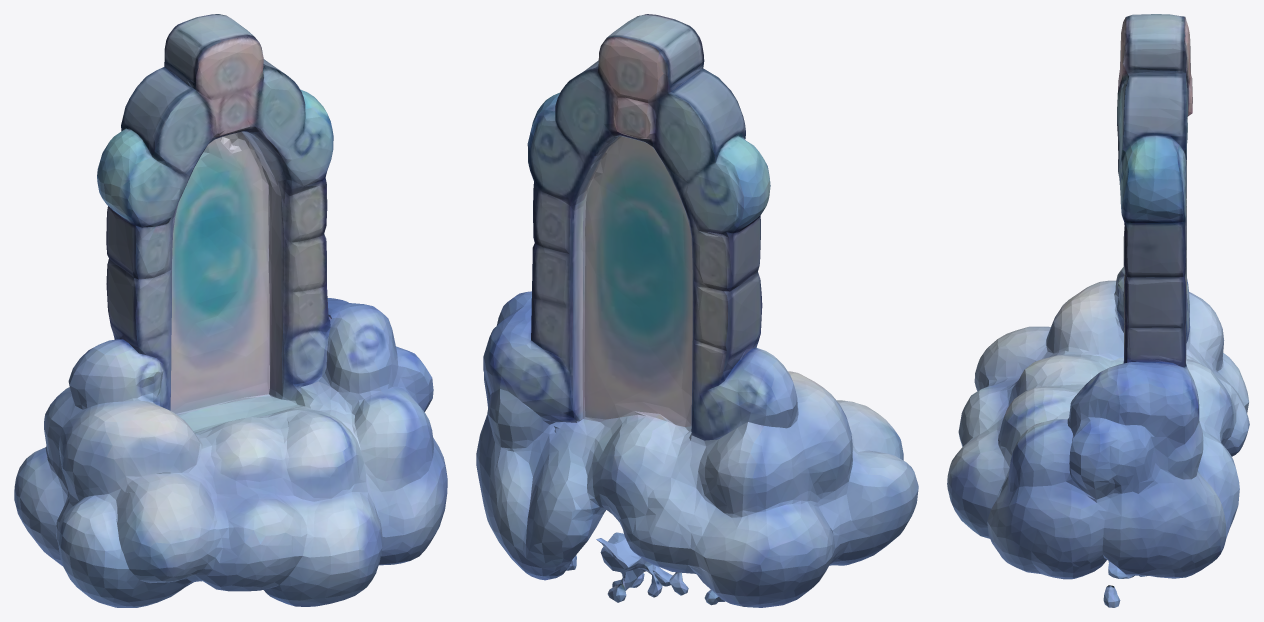
Rendered from portal_clouds.glb.
3 views of the same model, side by side, from view 1: azimuth 30°, elevation 25°; view 2: azimuth 150°, elevation 25°; view 3: azimuth 270°, elevation 25° (orthographic). The views are drawn at different scales.
Visible parts, largest first — view 1: world; view 2: world; view 3: world.
Part boxes in pixels (left/top/right/bottom): world: left=14, top=14, right=447, bottom=607; world: left=476, top=14, right=918, bottom=607; world: left=947, top=14, right=1249, bottom=607.
Size of the model in its own units: 0.7114 by 0.9994 by 0.5133.
1 material, 1 textured.
